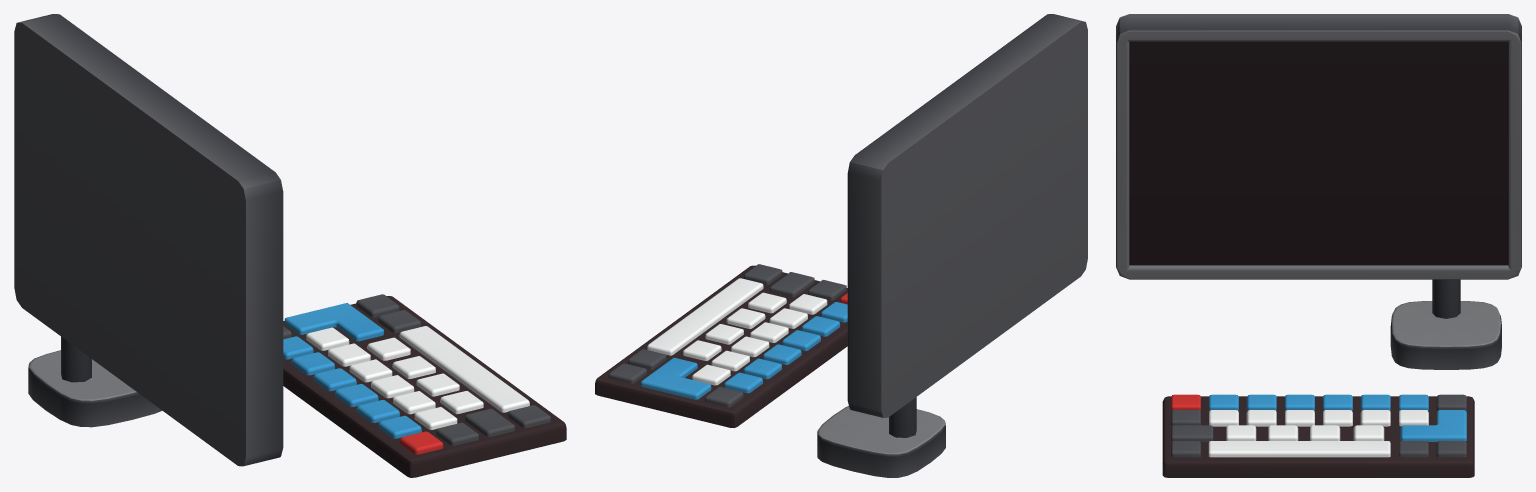
File: computer2.fbx
3 renders of one model, left to right at view 1: azimuth 30°, elevation 25°; view 2: azimuth 150°, elevation 25°; view 3: azimuth 270°, elevation 25°, orthographic. The views are drawn at different scales.
Visible parts, largest first — view 1: computer2; view 2: computer2; view 3: computer2.
Part boxes in pixels (bbox=[...]): computer2: bbox=[14, 14, 566, 477]; computer2: bbox=[595, 14, 1087, 477]; computer2: bbox=[1116, 14, 1521, 477].
Size of the model in its own units: 4.03 by 3.81 by 4.46.
